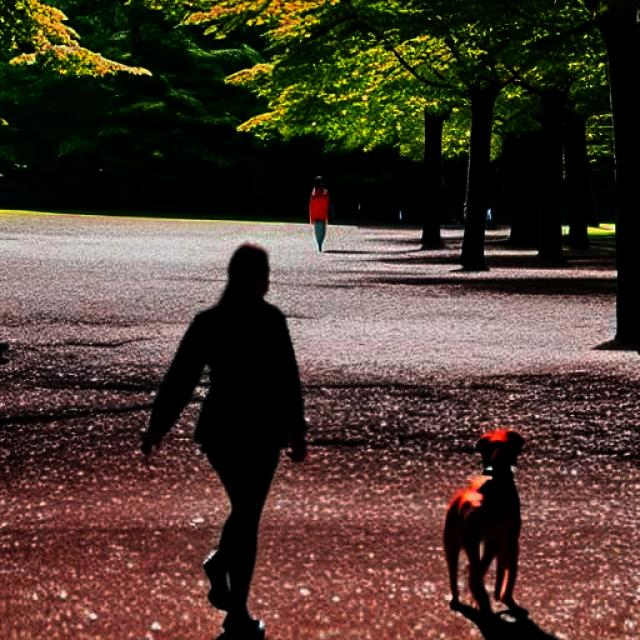Unleashed_Dog: (203, 431, 526, 616)
